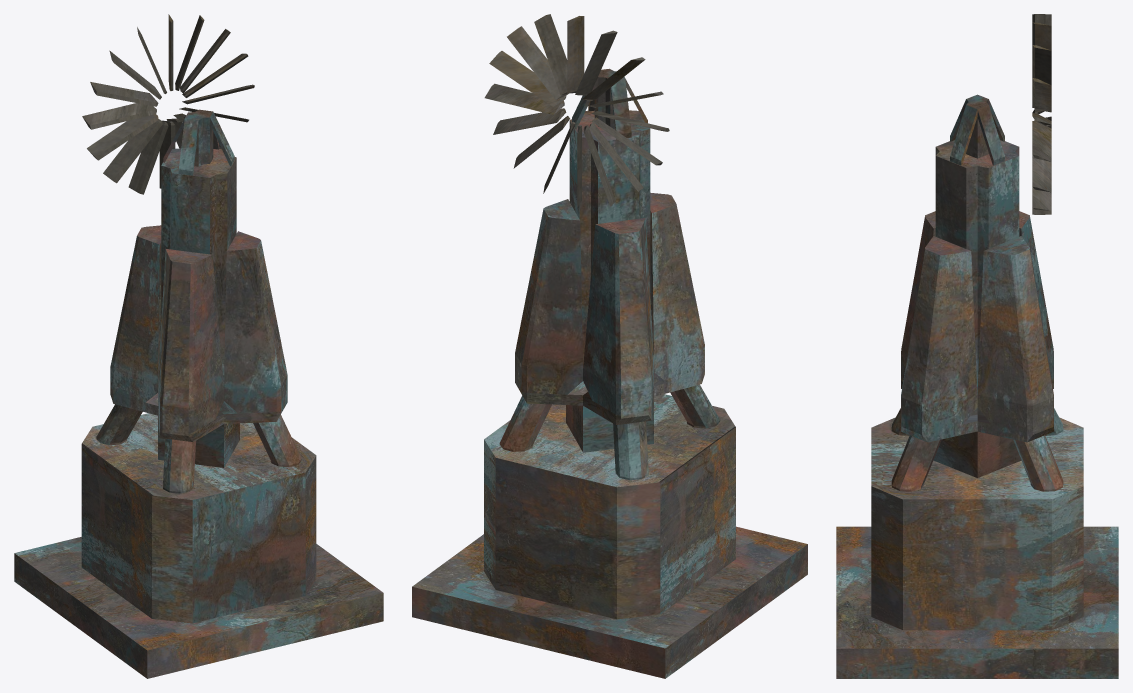
The model's file is Bigwinmill.fbx.
3 views of the same model, side by side, from view 1: azimuth 30°, elevation 25°; view 2: azimuth 150°, elevation 25°; view 3: azimuth 270°, elevation 25° (orthographic). The views are drawn at different scales.
Visible parts, largest first — view 1: Cube, Cube.001; view 2: Cube, Cube.001; view 3: Cube, Cube.001.
Part boxes in pixels (left/top/right/bottom): Cube: left=14, top=109, right=383, bottom=678; Cube.001: left=82, top=14, right=254, bottom=194; Cube: left=412, top=68, right=807, bottom=678; Cube.001: left=484, top=14, right=669, bottom=206; Cube: left=836, top=94, right=1118, bottom=678; Cube.001: left=1032, top=14, right=1051, bottom=214.
Bounding box in the file's own units: 17179 × 38949 × 16751.
2 materials, 2 textured.
